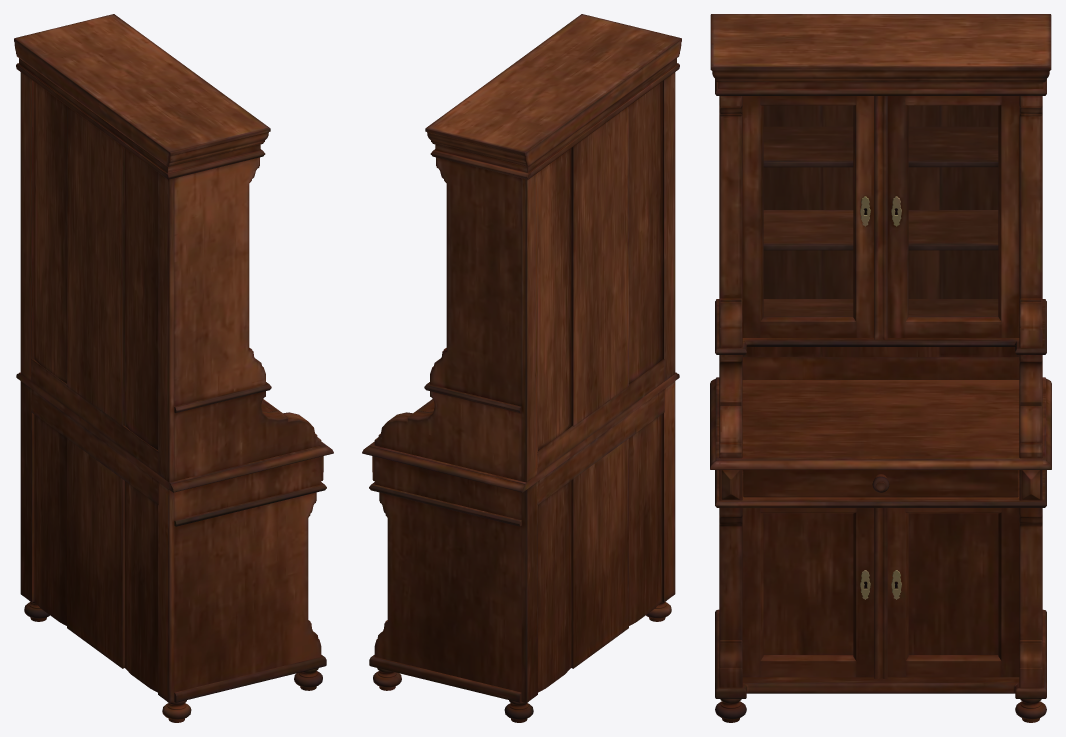
Rendered from vict_antique_wardrobe.glb.
The picture shows the model from 3 angles, left to right: view 1: azimuth 30°, elevation 25°; view 2: azimuth 150°, elevation 25°; view 3: azimuth 270°, elevation 25°; orthographic projection. The views are drawn at different scales.
Visible parts, largest first — view 1: angtiqueWardrobe_wood_0; view 2: angtiqueWardrobe_wood_0; view 3: angtiqueWardrobe_wood_0.
Boxes of the visible parts, x1=… form: angtiqueWardrobe_wood_0: x1=14, y1=14, x2=333, y2=722; angtiqueWardrobe_wood_0: x1=362, y1=14, x2=681, y2=722; angtiqueWardrobe_wood_0: x1=710, y1=14, x2=1051, y2=722.
Size of the model in its own units: 0.6218 by 2.1 by 1.04.
2 materials, 1 textured.
